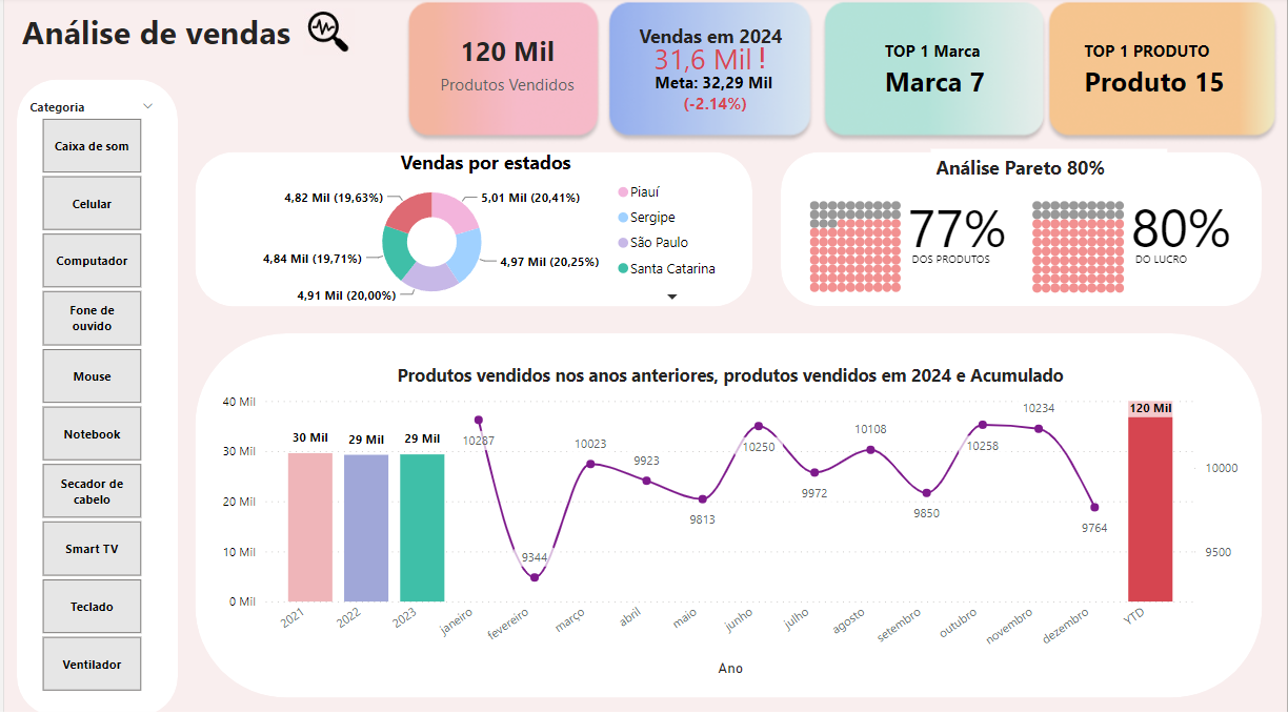

What the dashboard file says about the page in this screenshot:
{"tool":"powerbi","page":{"name":"Análise de Produtos","canvas":[1280,720],"ordinal":1},"visuals":[{"type":"shape","box":[12.6,83.5,160.7,636.3],"z":0},{"type":"shape","box":[775.6,155.8,480,154.2],"z":1000},{"type":"shape","box":[190.6,337.1,1064.8,363.8],"z":2000},{"type":"shape","box":[190.6,155.9,556,154.4],"z":3000},{"type":"enlightenWaffleChartC94C0BDE416B413A8071A92B5E75A718","fields":{"group":["Calendário.Ano"],"measure":["Medidas.Complemento pareto quantidade de itens","Medidas.Quantida de produtos analisé pareto em %"]},"box":[798.6,198.5,244.1,118.1],"z":4000},{"type":"enlightenWaffleChartC94C0BDE416B413A8071A92B5E75A718","fields":{"group":["Calendário.Ano"],"measure":["Medidas.Pareto 0.8","Medidas.Pareto 0.2"]},"box":[1020.7,198.5,245.7,137],"z":5000},{"type":"cardVisual","fields":{"Data":["Medidas.Marca com Maior Lucro","Medidas.Produto com Maior Lucro"]},"box":[862.1,4.7,404.5,137.4],"z":6000},{"type":"card","fields":{"Values":["Medidas.Produtos Vendidos"]},"box":[409.2,21.9,184.3,87.5],"z":7000},{"type":"donutChart","title":"Vendas por estados","fields":{"Category":["Estados.NomeEstado"],"Y":["Medidas.Produtos Vendidos"]},"box":[236.3,152.8,488.3,160.7],"z":8000},{"type":"slicer","fields":{"Values":["Subcategoria.Categoria do produto"]},"box":[12.6,97.7,148.1,603.3],"z":9000},{"type":"kpi","title":"Vendas em 2024","fields":{"Indicator":["Medidas.Produtos vendidos em 2024"],"TrendLine":["Calendário.Ano"],"Goal":["Medidas.Meta vendas 2024"]},"box":[617.4,23.6,181.1,119.7],"z":10000},{"type":"textbox","box":[628.5,22.1,171.7,36.2],"z":11000},{"type":"textbox","box":[12.6,7.9,357.5,66.2],"z":12000},{"type":"image","box":[293,7.9,61.4,56.7],"z":13000},{"type":"lineStackedColumnComboChart","title":"Produtos  vendidos nos anos anteriores, produtos vendidos em  2024 e Acumulado","fields":{"Category":["AuxPeríodo.Ano"],"Y2":["Medidas.$ Meses"],"Y":["Medidas.$ Anos"]},"box":[212.6,367,1023.8,316.6],"z":14000},{"type":"textbox","box":[924.6,152.8,236.3,34.7],"z":15000}]}

Visuals, with their boxes in screenshot pixels (x1, y1, x2, y2), scaled from the page's 1280x720 canvas onto the 1288x712 screenshot:
shape: 13, 83, 174, 711
shape: 780, 154, 1263, 307
shape: 192, 333, 1263, 693
shape: 192, 154, 751, 307
enlightenWaffleChartC94C0BDE416B413A8071A92B5E75A718 - Calendário.Ano x Medidas.Complemento pareto quantidade de itens: 804, 196, 1049, 313
enlightenWaffleChartC94C0BDE416B413A8071A92B5E75A718 - Calendário.Ano x Medidas.Pareto 0.8: 1027, 196, 1274, 332
cardVisual - Medidas.Marca com Maior Lucro x Medidas.Produto com Maior Lucro: 867, 5, 1275, 141
card - Medidas.Produtos Vendidos: 412, 22, 597, 108
"Vendas por estados" donutChart: 238, 151, 729, 310
slicer - Subcategoria.Categoria do produto: 13, 97, 162, 693
"Vendas em 2024" kpi: 621, 23, 803, 142
textbox: 632, 22, 805, 58
textbox: 13, 8, 372, 73
image: 295, 8, 357, 64
"Produtos  vendidos nos anos anteriores, produtos vendidos em  2024 e Acumulado" lineStackedColumnComboChart: 214, 363, 1244, 676
textbox: 930, 151, 1168, 185
